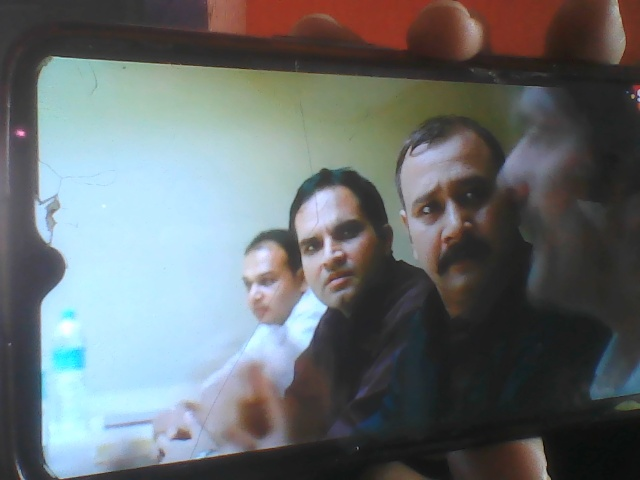fake: (394, 95, 545, 309), (289, 146, 410, 317)
